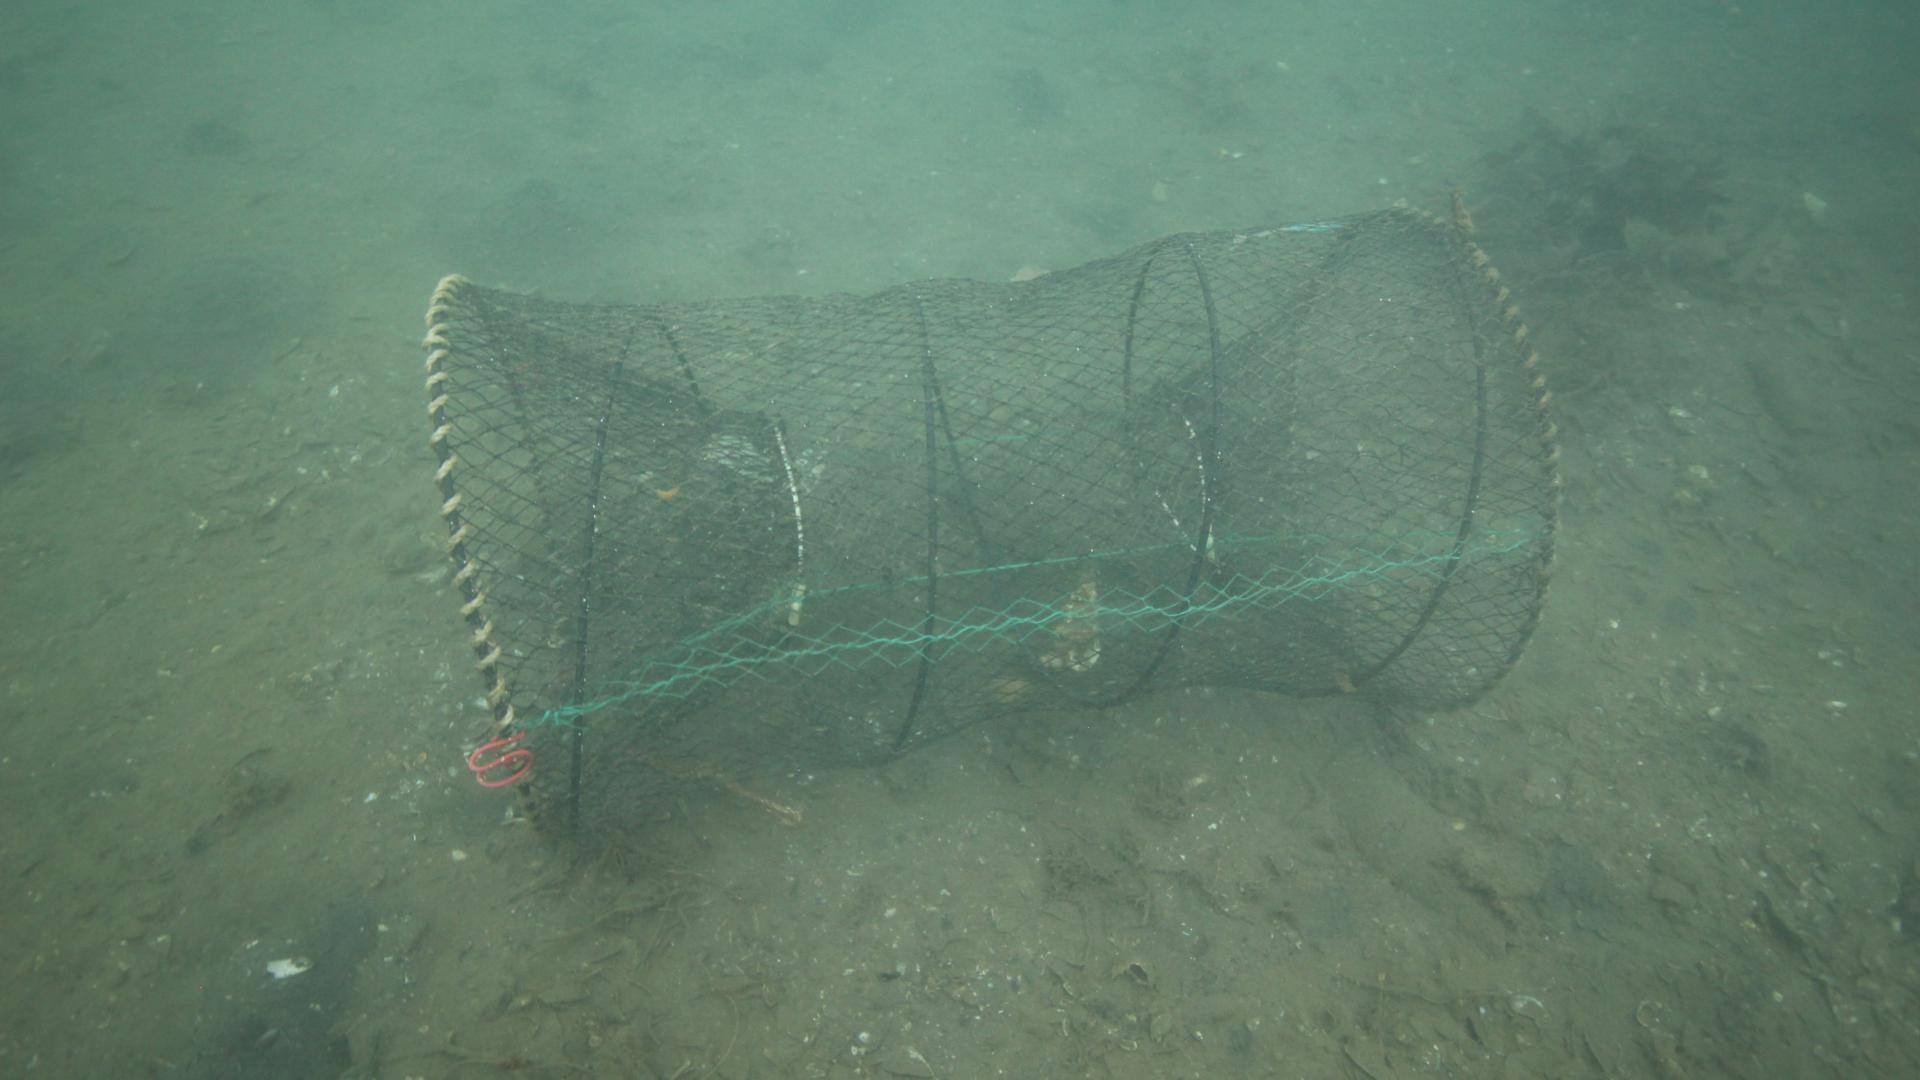spring fish trap: (422, 198, 1575, 851)
